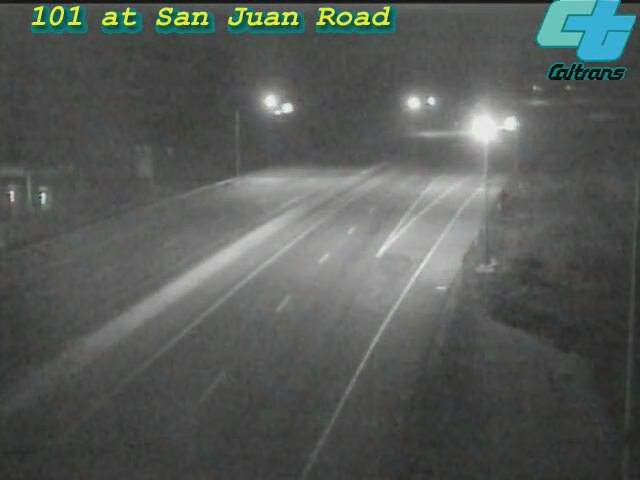vehicle: (453, 104, 503, 154), (484, 99, 534, 149)
